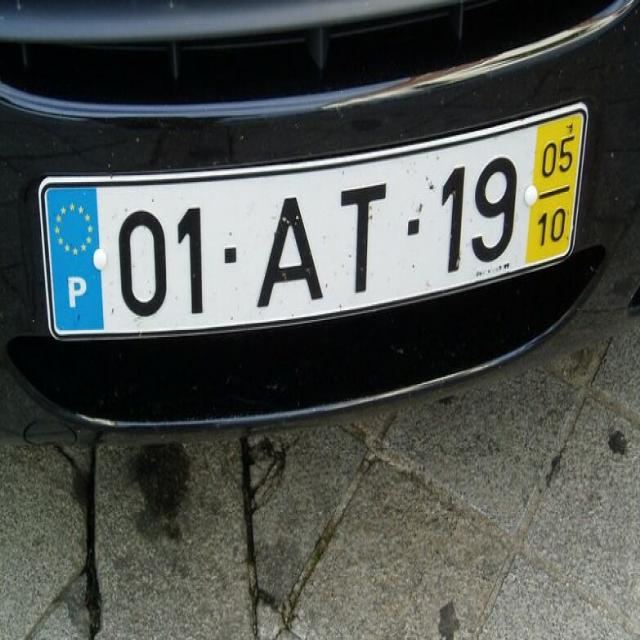portuguese-license-plates: (37, 96, 591, 346)
